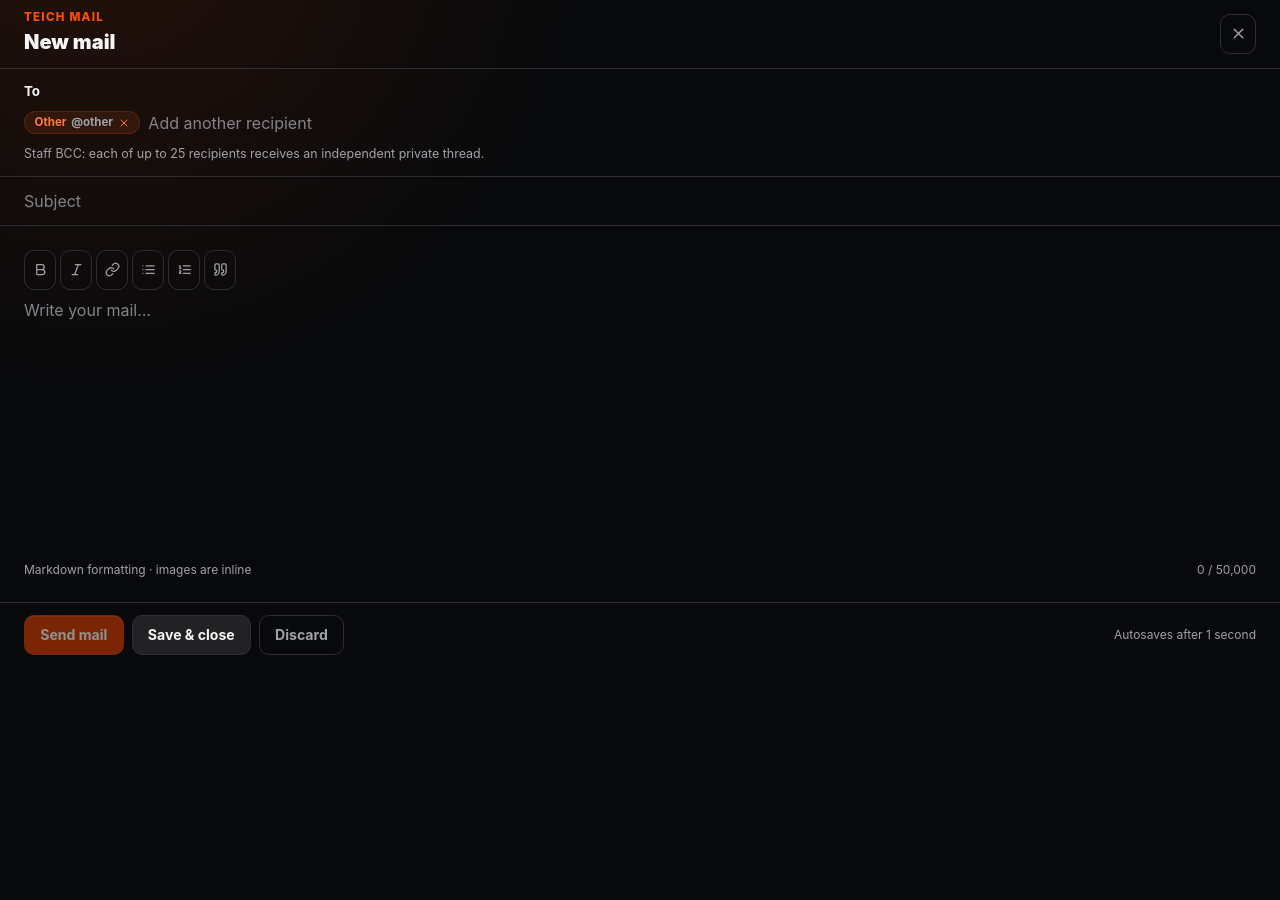
Test case: MailComposer › excludes selected members and supports mouse selection and chip removal
Type "person" into the dropdown labelled "To" at (702, 123), box [148, 107, 1256, 139]
Wait 250 ms
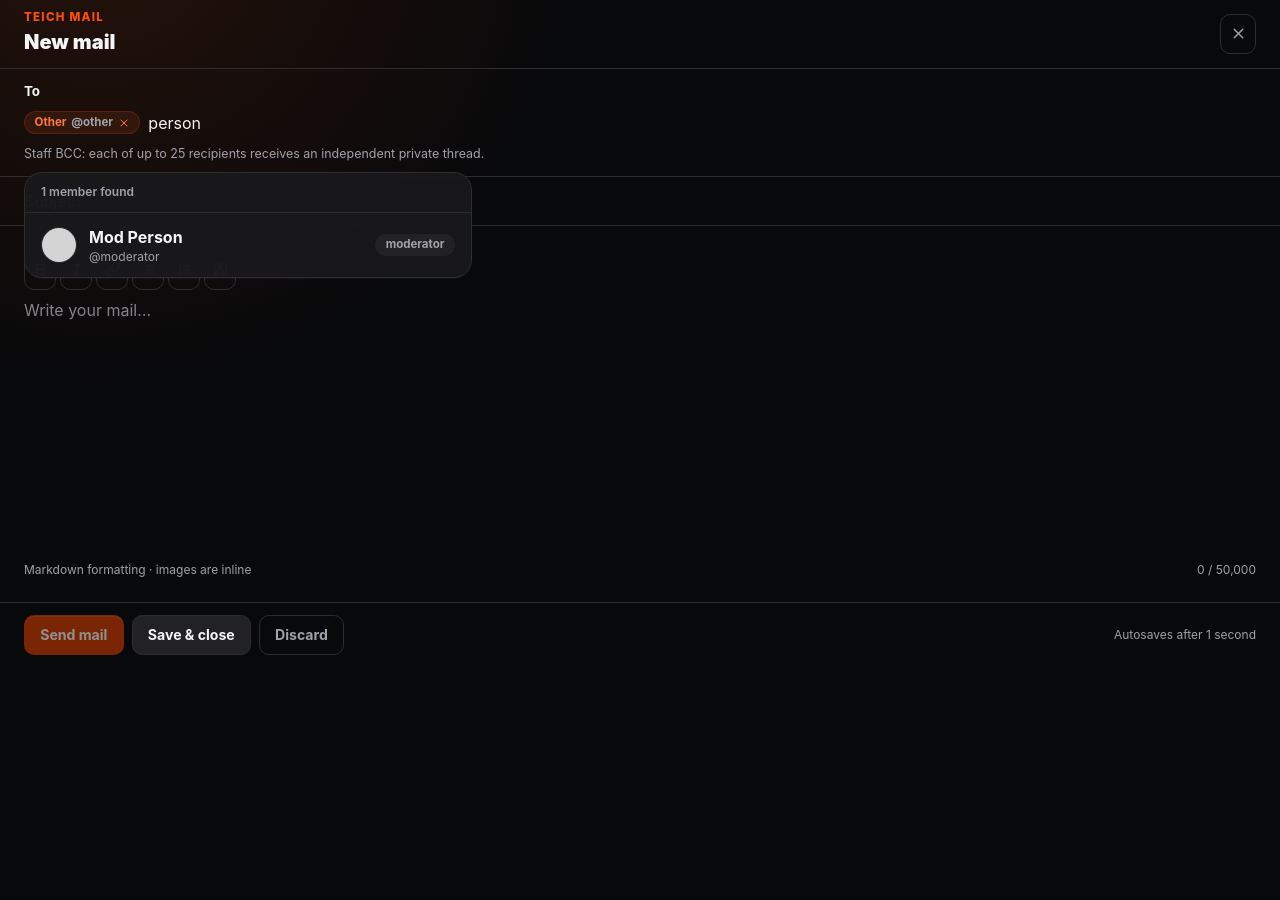
Click the option "Mod Person @moderator moderator" at (59, 245), box [25, 213, 471, 277]
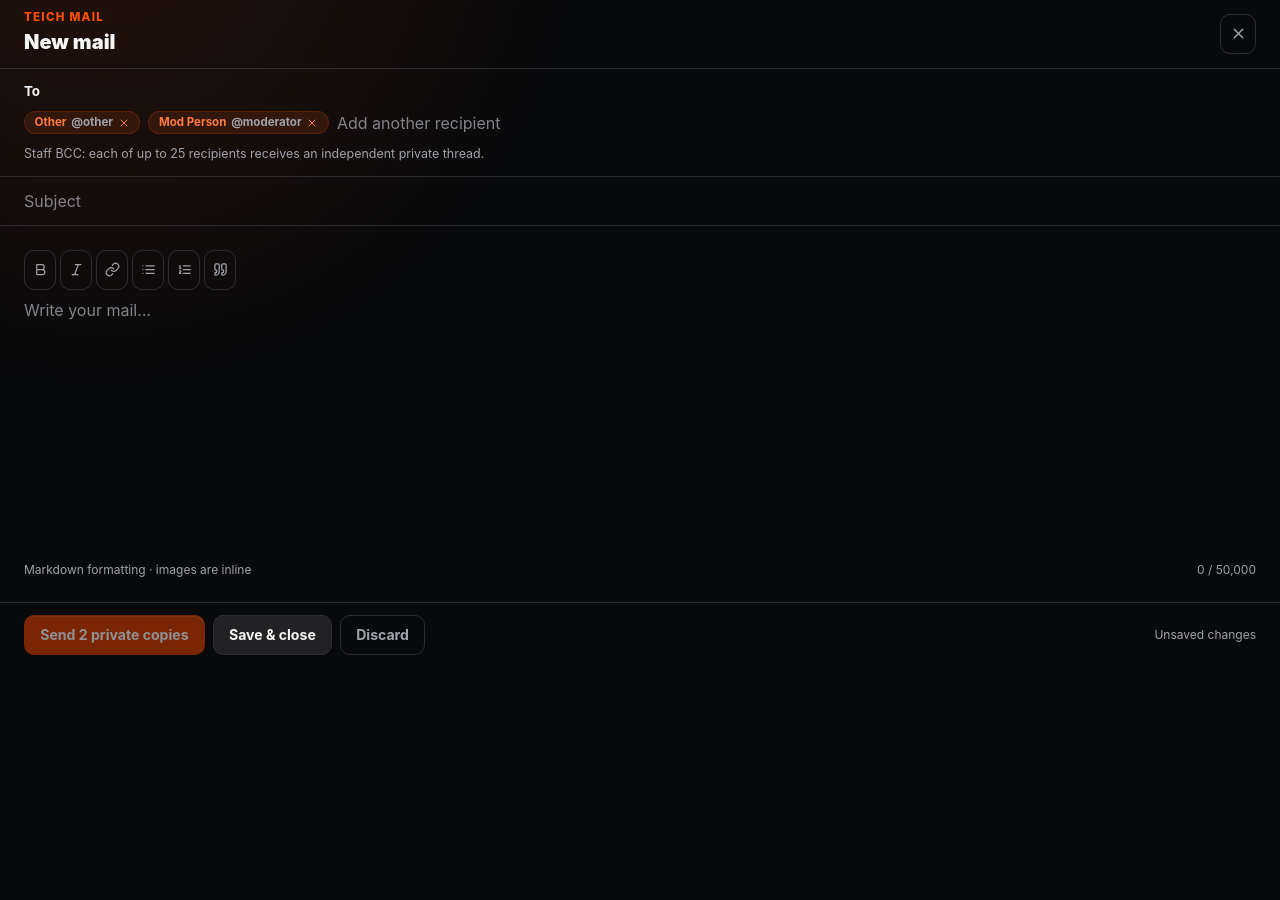
Now the text "@moderator" is shown, box [231, 117, 302, 128]
Now the dropdown labelled "To" is empty, box [337, 107, 1256, 139]
Click the button named "Remove Other" at (124, 123), box [118, 117, 130, 129]
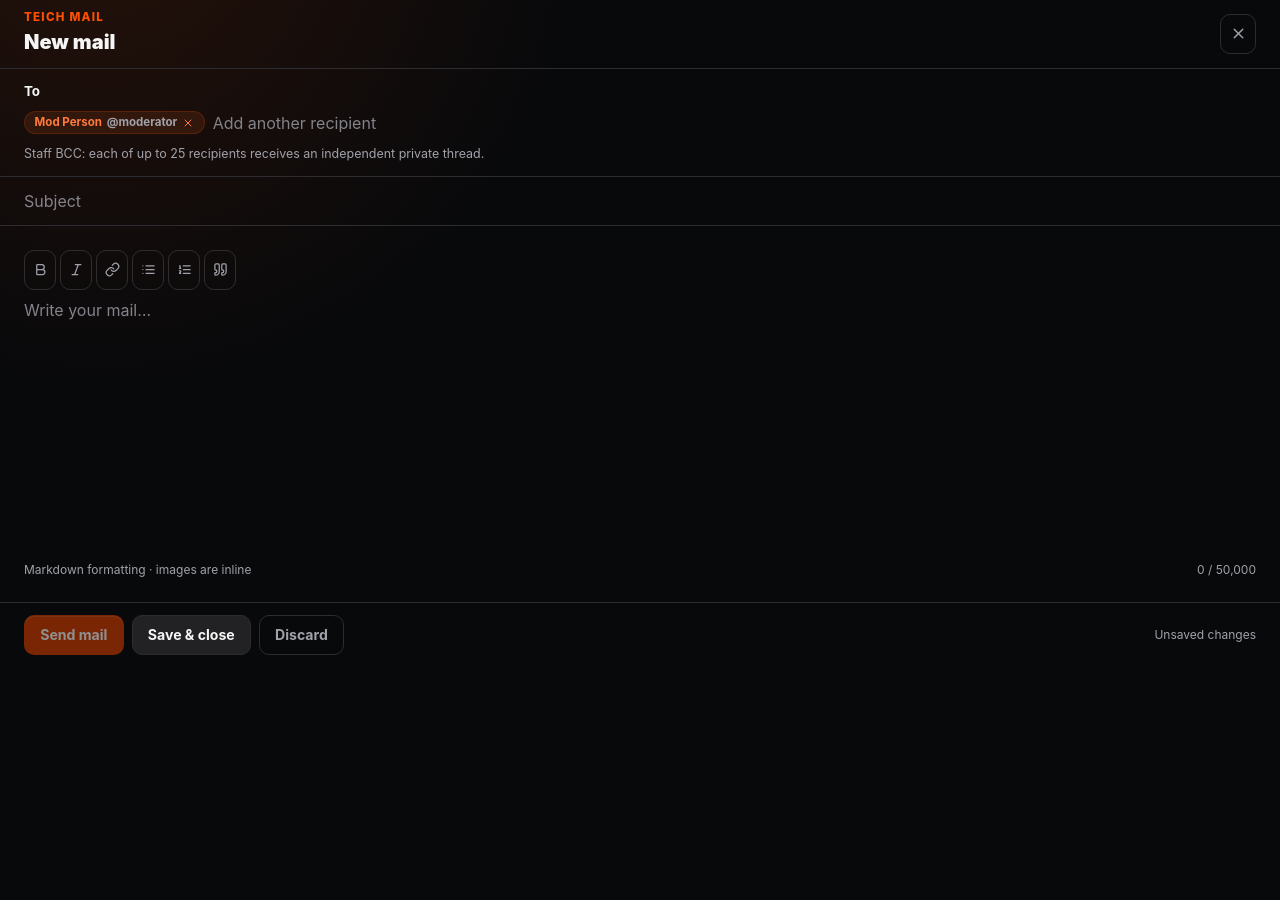
Now the text "@moderator" is shown, box [107, 117, 177, 128]
Now the text "@other" is gone
